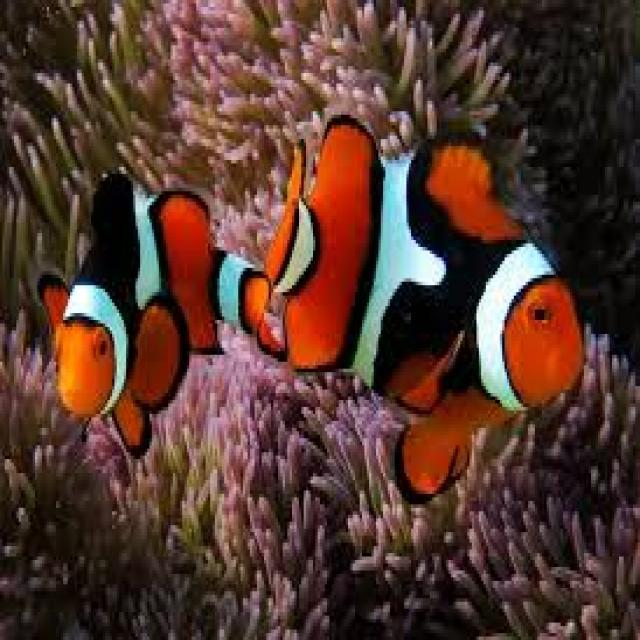ClownFish: (267, 116, 584, 504), (37, 168, 270, 460)
